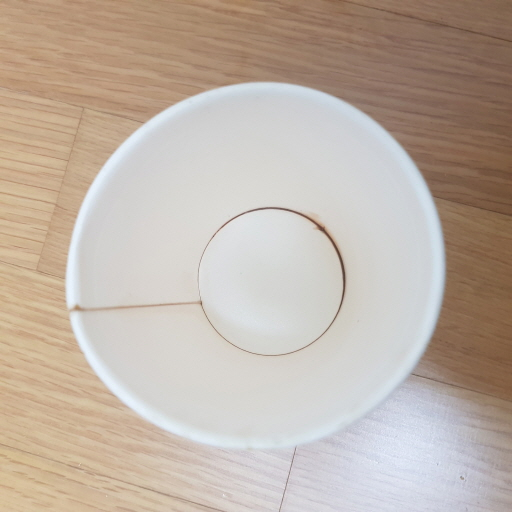Paper_1: (67, 79, 448, 448)
